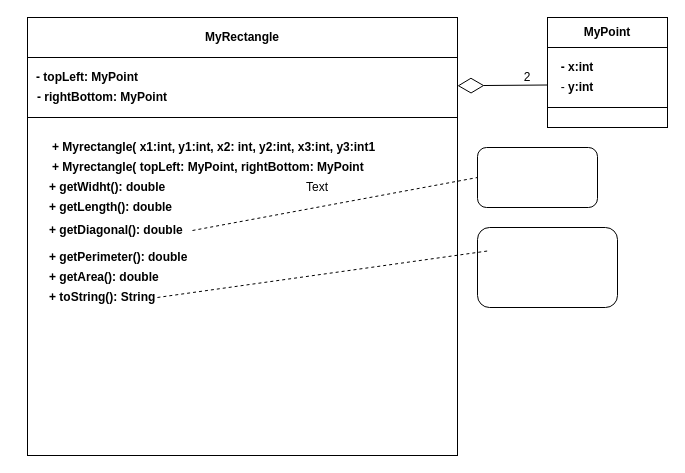
The diagram is 685 pixels wide and 473 high, and some of its shapes have lost their labels. The shapes that lost their labels are listed below. From the top down, each one's box as (x1, y1, x2, y2) in pixels, then its label:
(476, 146, 598, 208): Use MyPoint diagonal method.
(476, 226, 618, 308): My Rectangle[ topLeft=value, rightBottom=value]
